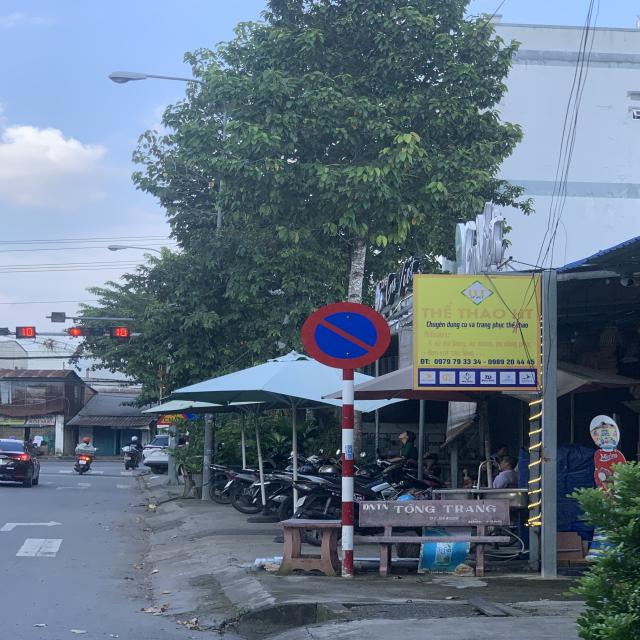Cam_Dau_Xe: (304, 302, 391, 368)
